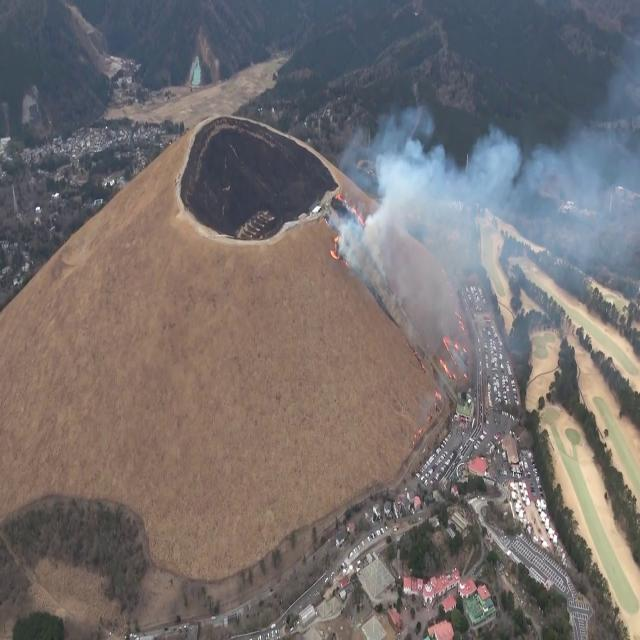Smoke: (333, 84, 514, 372), (527, 86, 639, 313)
